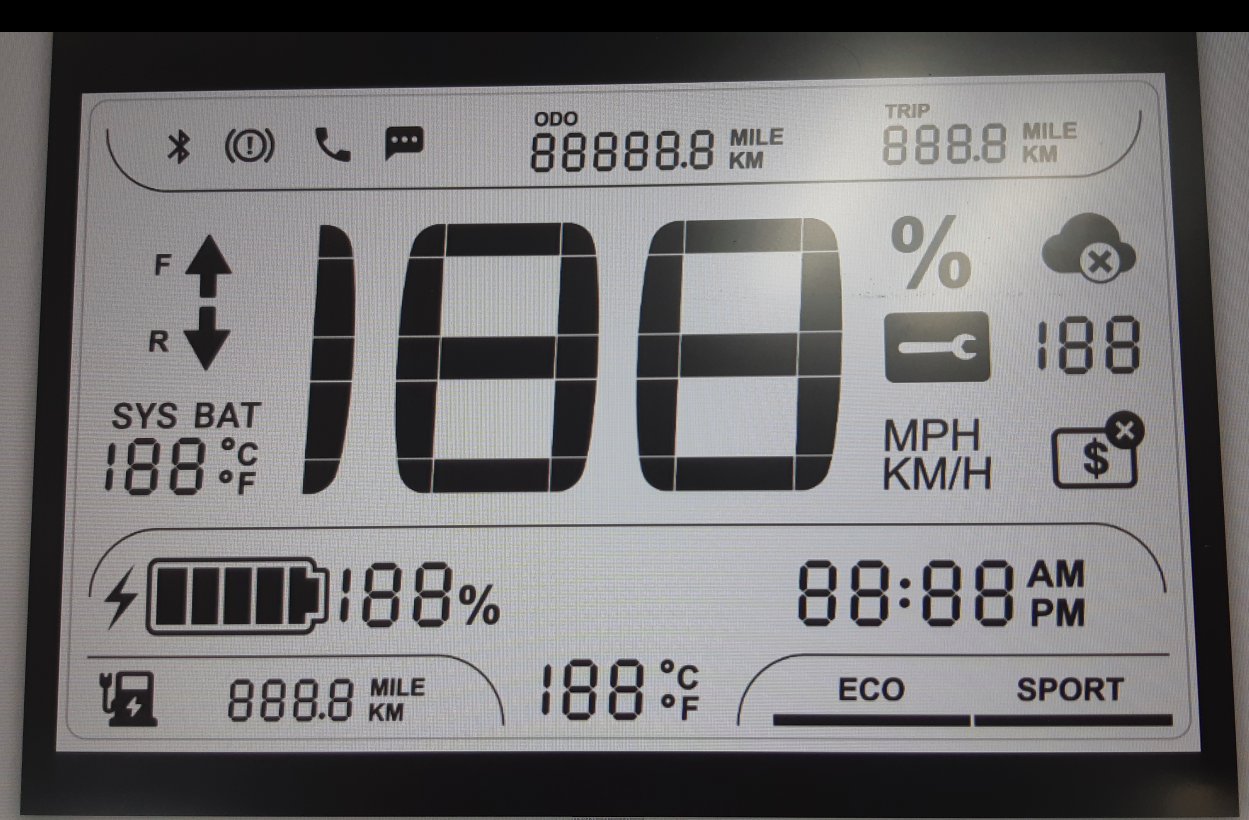bluetooth_on: (161, 123, 198, 169)
braking_on: (221, 123, 281, 168)
calling_on: (309, 121, 357, 168)
connection_lost: (1037, 209, 1141, 289)
error_code: (879, 308, 995, 387)
low_battery: (95, 664, 164, 733)
sms_on: (379, 123, 429, 165)
vin_id: (1047, 405, 1148, 493)
